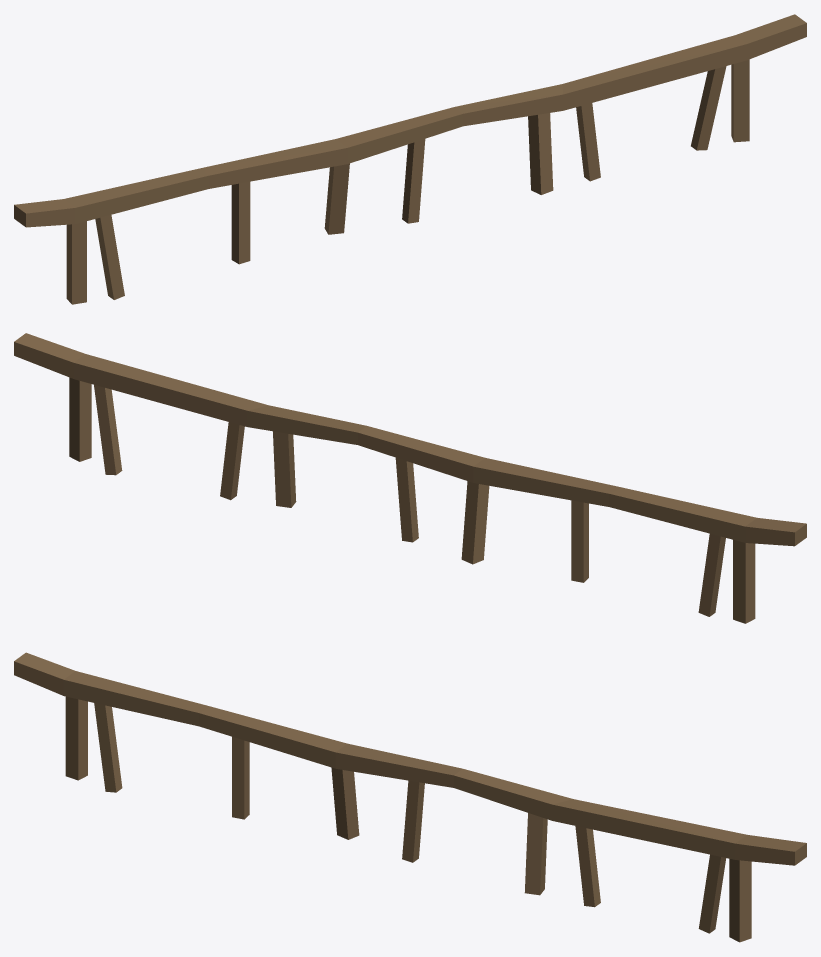
File: SM_Prop_Fence_01.glb
The picture shows the model from 3 angles, top to bottom: view 1: azimuth 30°, elevation 25°; view 2: azimuth 150°, elevation 25°; view 3: azimuth 330°, elevation 25°; orthographic projection.
Visible parts, largest first — view 1: SM_Prop_Fence_01_part00; view 2: SM_Prop_Fence_01_part00; view 3: SM_Prop_Fence_01_part00.
Boxes of the visible parts, <box> form: SM_Prop_Fence_01_part00: <box>14,14,806,304</box>; SM_Prop_Fence_01_part00: <box>14,333,806,623</box>; SM_Prop_Fence_01_part00: <box>14,652,806,942</box>.
Bounding box in the file's own units: 5.7 × 0.7666 × 0.2528.
Materials: 1 (1 with a texture image).
